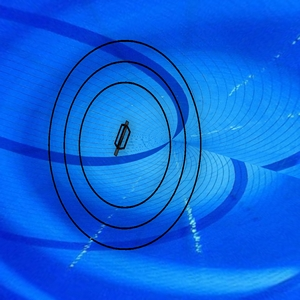circle: (44, 35, 207, 260)
submarine: (106, 117, 135, 159)
